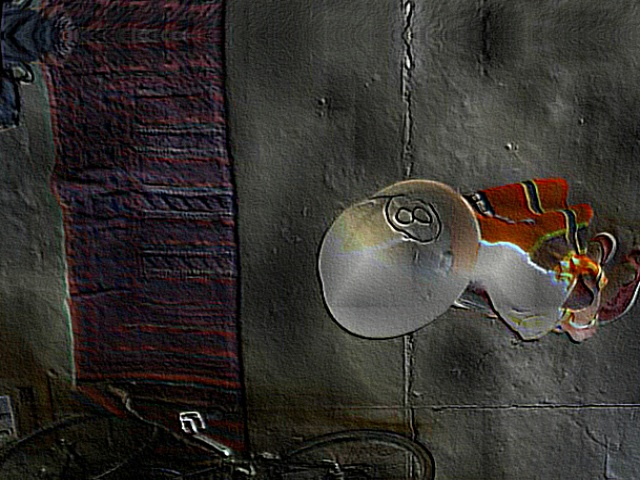eight: (383, 193, 441, 242)
